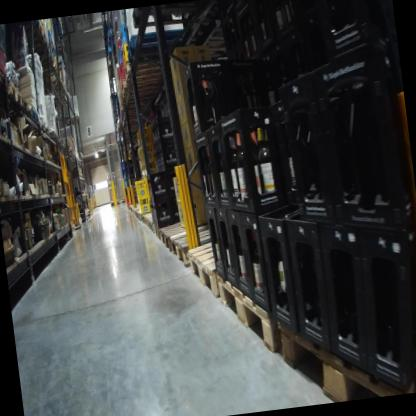pallet: (275, 302, 416, 406), (121, 0, 219, 85), (213, 263, 287, 367), (184, 221, 253, 301), (123, 22, 209, 70), (169, 212, 224, 269), (121, 69, 183, 97), (160, 221, 201, 257), (119, 87, 172, 114), (1, 74, 22, 111), (44, 88, 73, 109), (42, 80, 70, 98), (29, 117, 50, 137), (61, 111, 81, 128), (20, 94, 32, 119), (152, 221, 164, 245), (27, 104, 40, 125), (0, 54, 7, 90), (56, 138, 71, 154), (142, 213, 157, 228), (48, 126, 60, 142), (44, 150, 53, 166), (147, 215, 154, 235), (134, 209, 144, 222), (108, 199, 121, 208), (139, 213, 149, 223), (72, 172, 84, 179)
